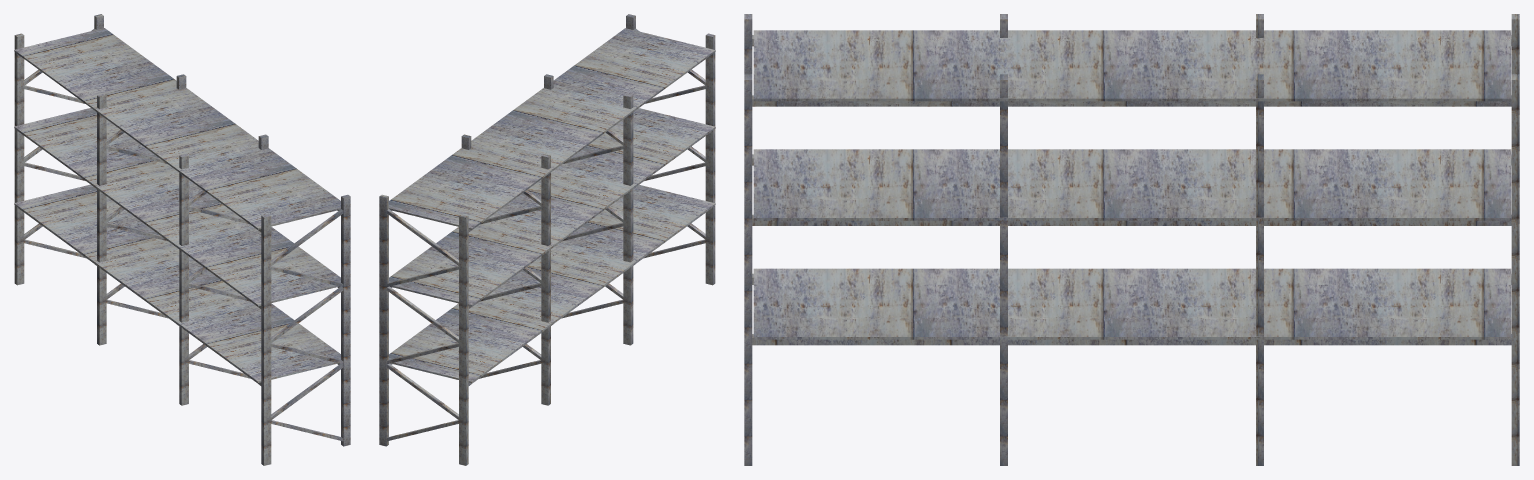
Rendered from kabinet resize.fbx.
3 views of the same model, side by side, from view 1: azimuth 30°, elevation 25°; view 2: azimuth 150°, elevation 25°; view 3: azimuth 270°, elevation 25° (orthographic). The views are drawn at different scales.
Parts seen in each view (by area): view 1: Shelf Freezer2; view 2: Shelf Freezer2; view 3: Shelf Freezer2.
Boxes of the visible parts, box(x1,y1,x2,y2) form: Shelf Freezer2: box(14, 14, 350, 465); Shelf Freezer2: box(379, 14, 715, 465); Shelf Freezer2: box(744, 14, 1519, 465).
Size of the model in its own units: 105 by 275 by 500.
